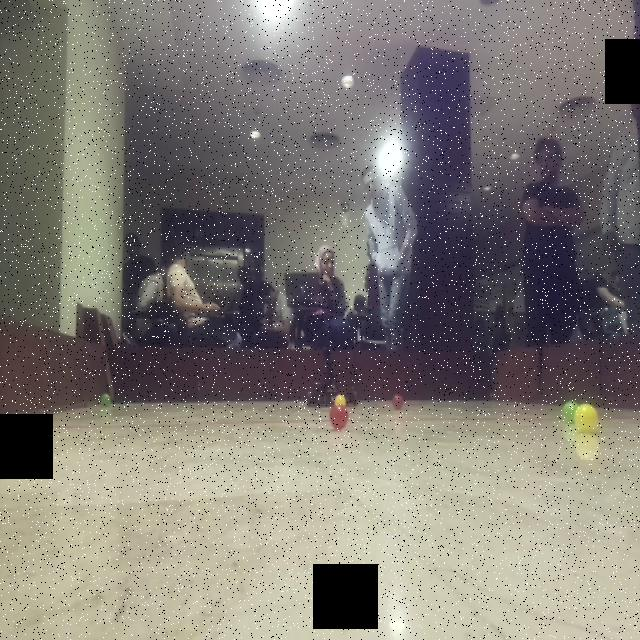ball: (573, 400, 600, 432), (329, 404, 351, 431), (561, 398, 578, 427), (389, 391, 407, 414), (331, 390, 351, 410), (97, 391, 114, 408)
